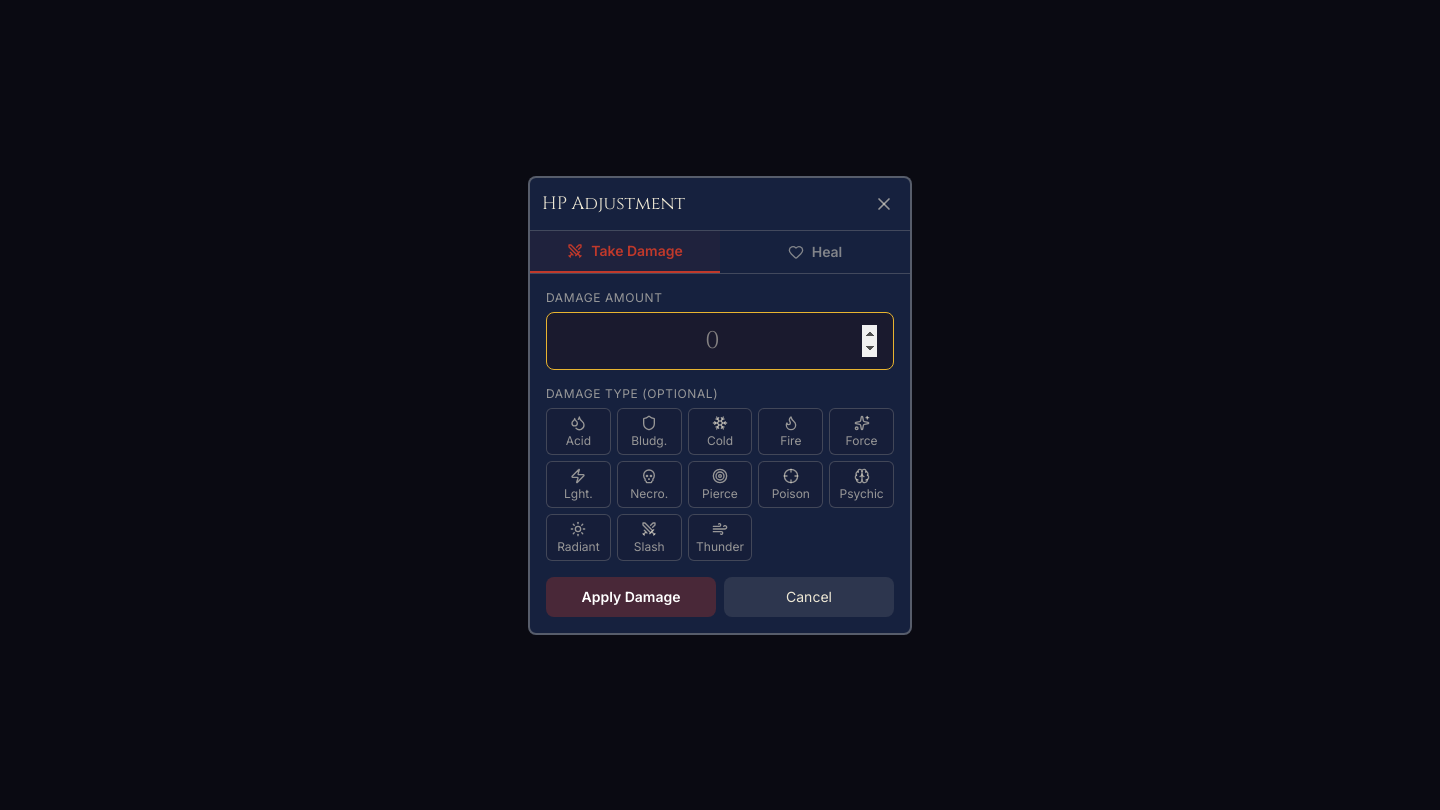
Test case: DamageHealModal › shows instant death warning for massive damage
In the number field with test id "hp-amount-input": (720, 340) [546,312,894,370], type "20"
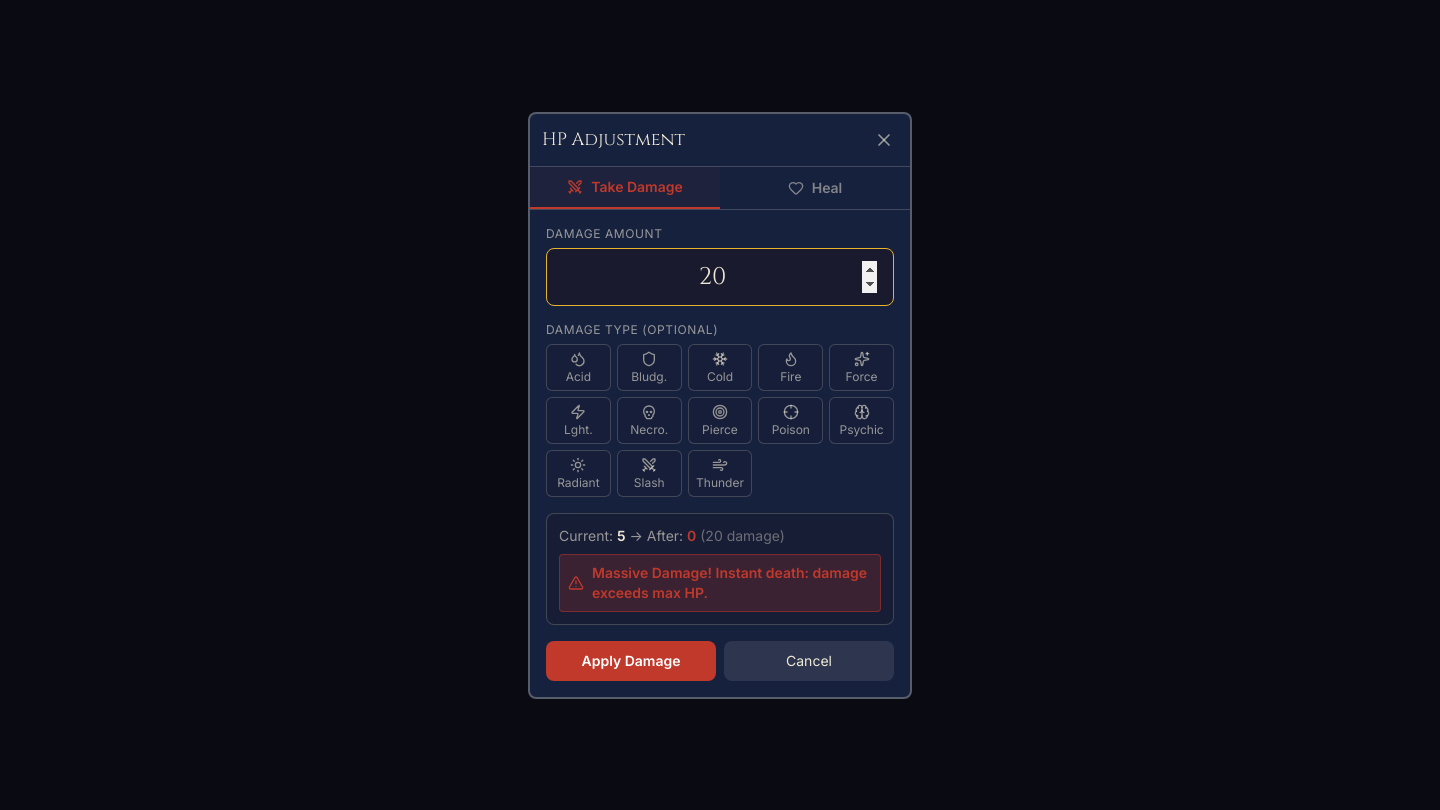
Expected: the element with test id "instant-death-warning" is shown, [559,554,881,612]
